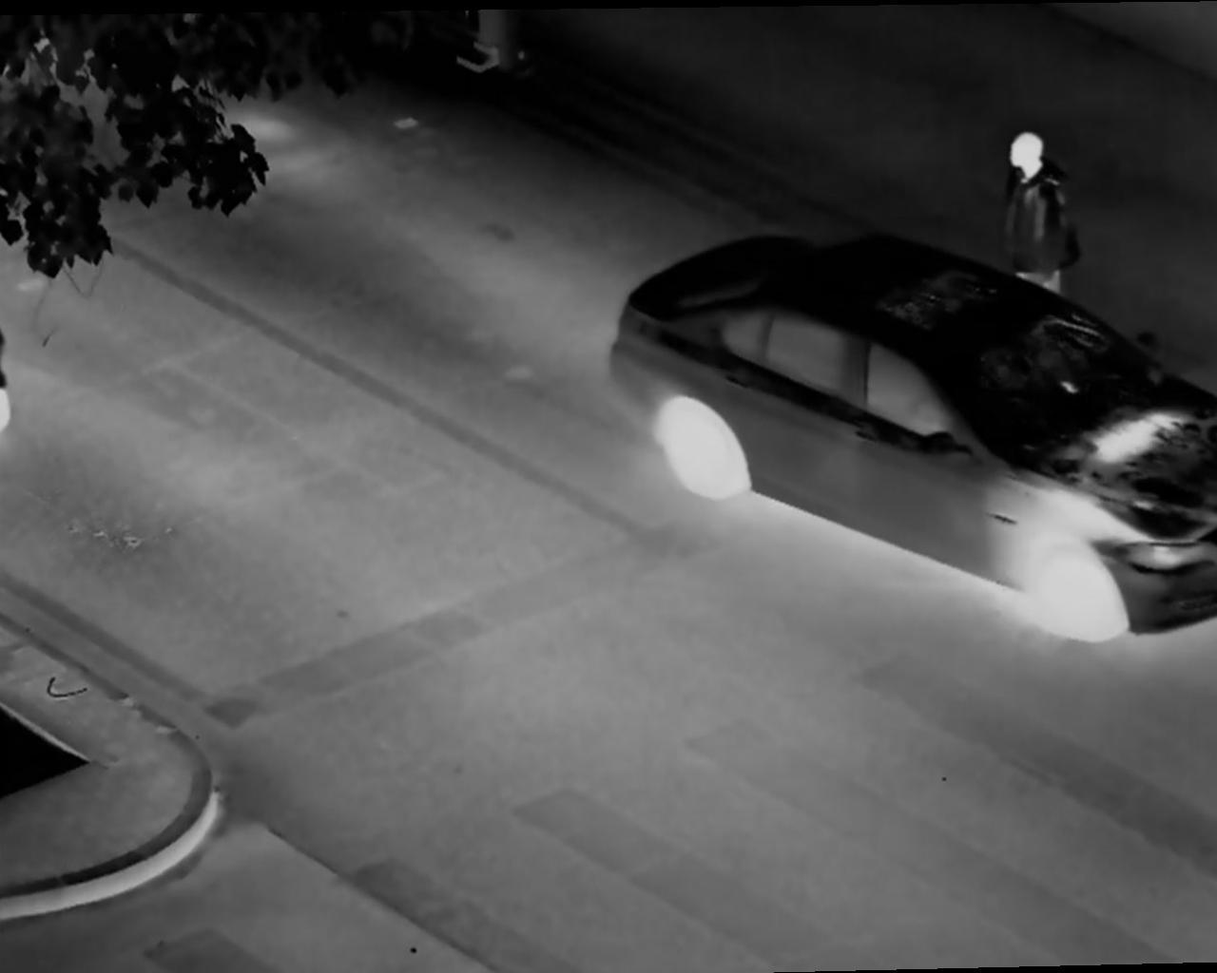person: (1001, 132, 1088, 297)
